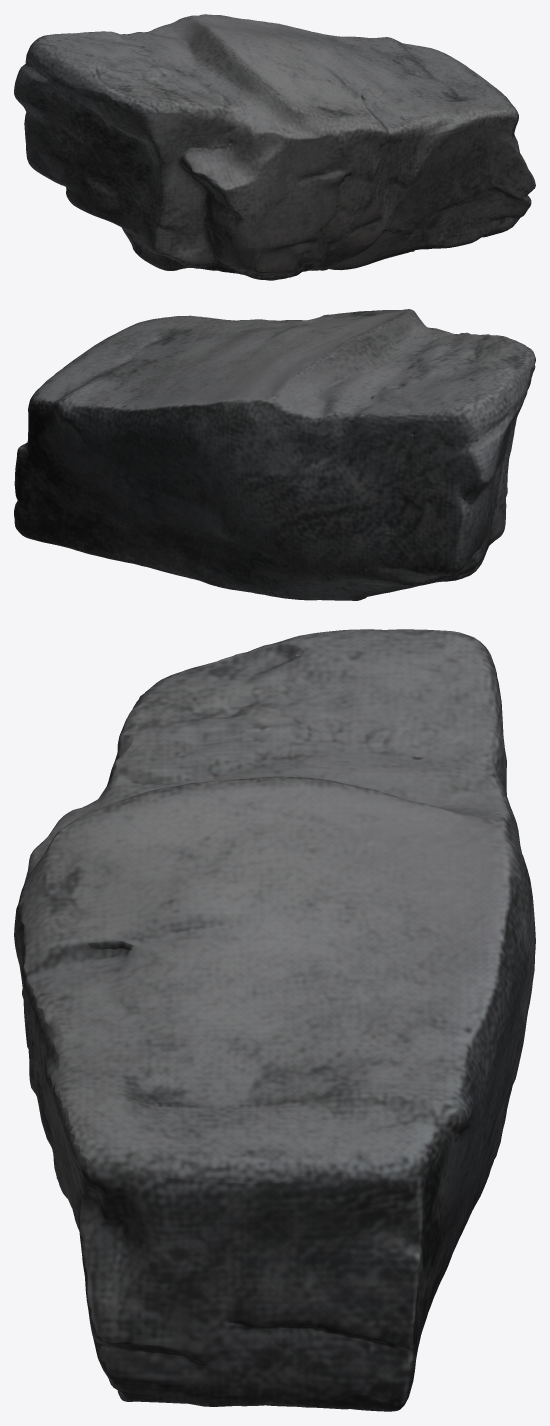
3 views of the same model, one above another, from view 1: azimuth 30°, elevation 25°; view 2: azimuth 150°, elevation 25°; view 3: azimuth 270°, elevation 25° (orthographic). The views are drawn at different scales.
Visible parts, largest first — view 1: world; view 2: world; view 3: world.
Part boxes in pixels (<box>): world: <box>14,14,535,280</box>; world: <box>14,309,535,600</box>; world: <box>14,629,535,1411</box>.
Size of the model in its own units: 3.5 by 1.75 by 1.97.
1 material, 1 textured.
